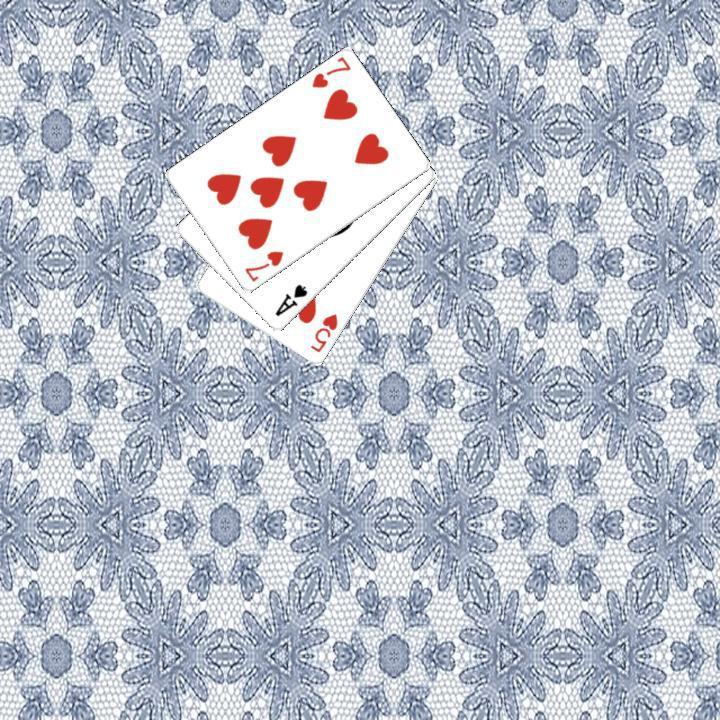5: (306, 310, 340, 355)
7: (307, 52, 353, 91), (240, 247, 285, 284)
A: (271, 280, 310, 319)
